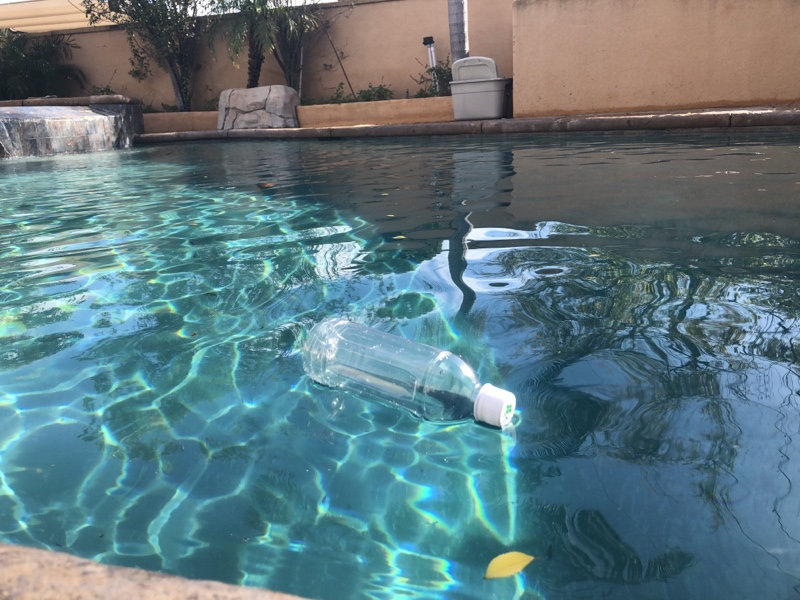Plastic Bottle: (298, 316, 519, 436)
